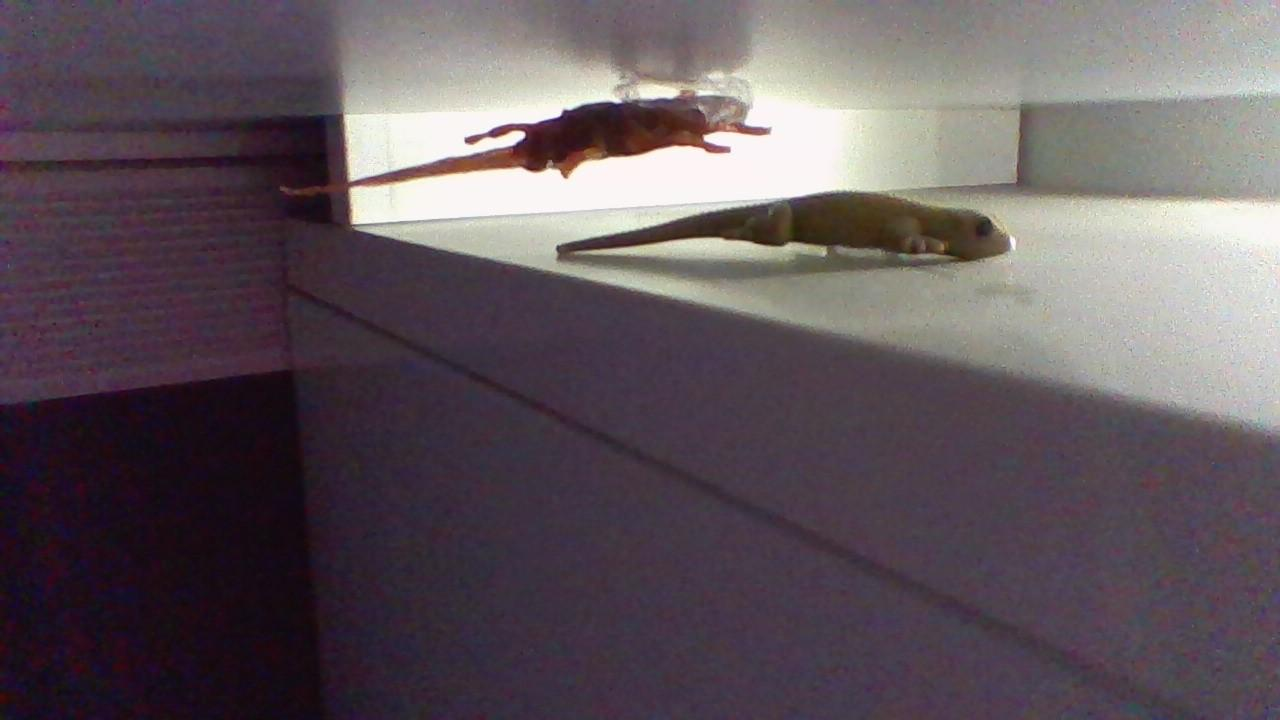cockroach: (450, 69, 741, 184)
lizard: (546, 182, 1020, 262)
